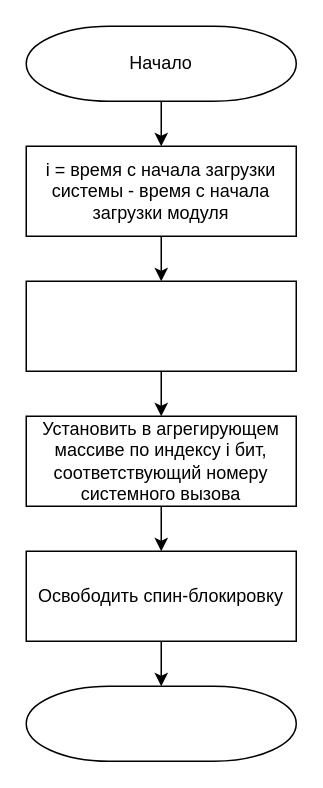
Image size: 323x788. Some labels were removed from this diagram. Each missing label, with the box of its shape:
Захватить спин-блокировку: (25, 280, 296, 371)
Конец: (25, 685, 296, 761)
